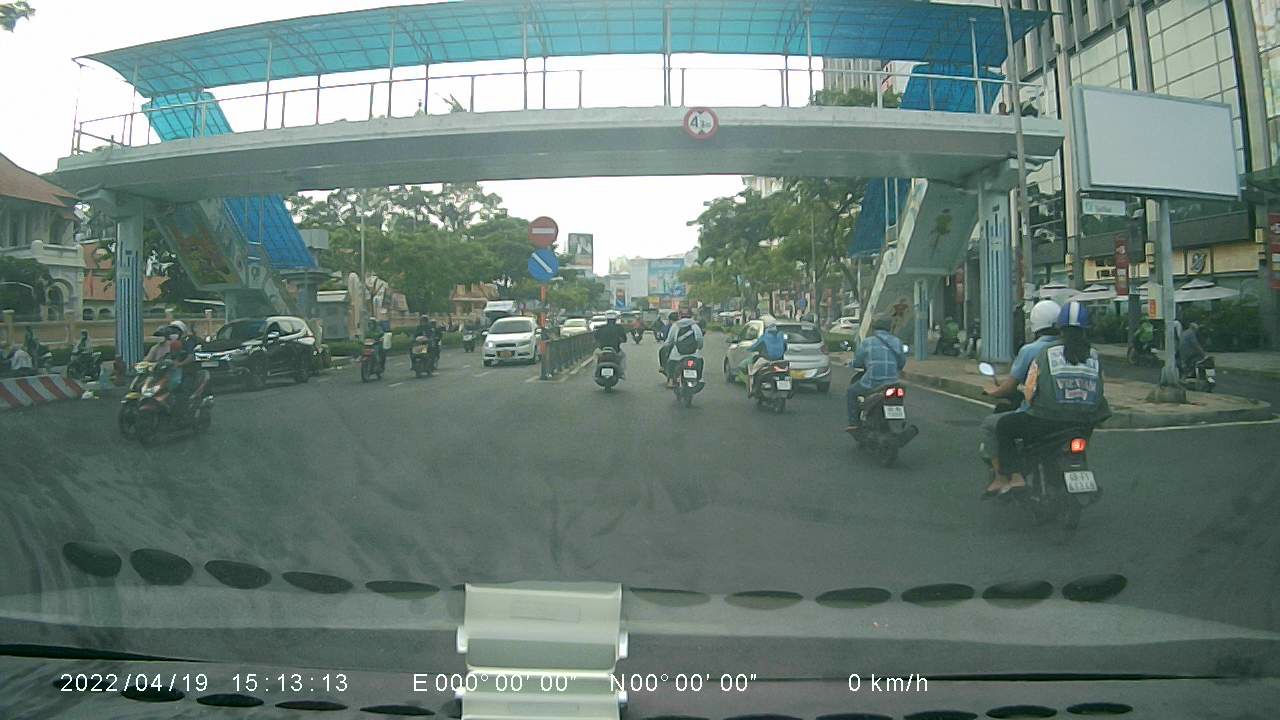Cam di nguoc chieu: (527, 214, 559, 246)
Huong di phai re phai: (526, 249, 559, 281)
